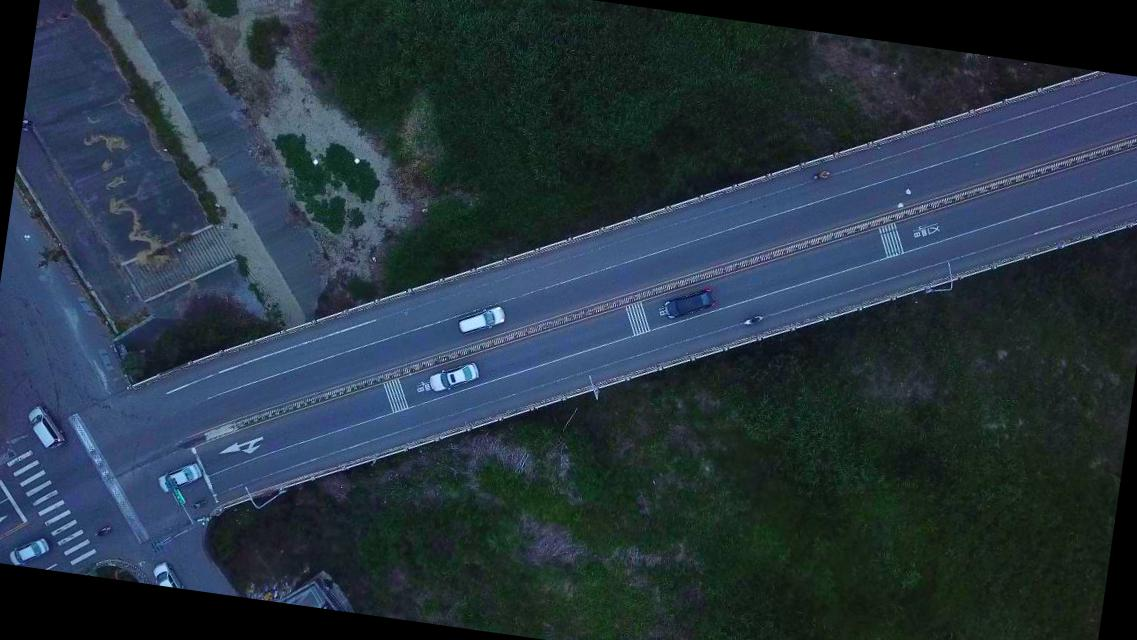vehicle: (660, 284, 716, 327), (426, 356, 480, 400), (22, 404, 68, 451), (456, 300, 506, 337), (156, 458, 202, 498), (9, 533, 50, 569), (149, 560, 185, 588)
